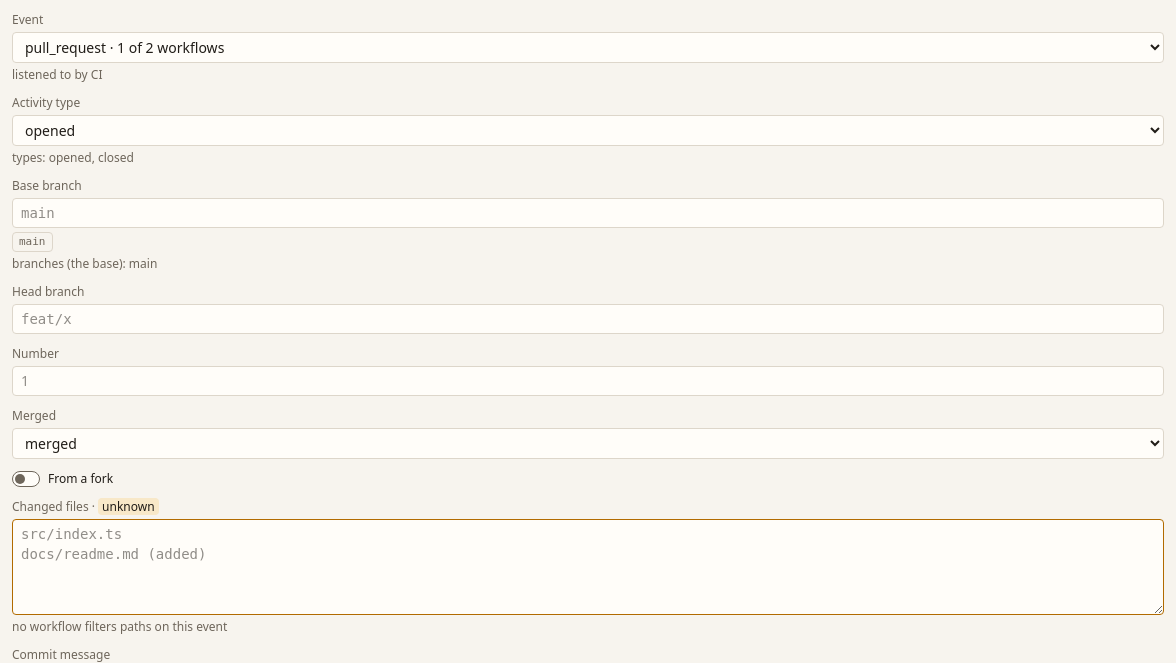
Scenario: the field groups › keeps Merged in place on an opened pull request while the author makes it unknown
The width and height of the screenshot is (1176, 663).
Select "unknown" in the dropdown labelled "Merged": (588, 443) top-left (12, 428), bottom-right (1164, 459)
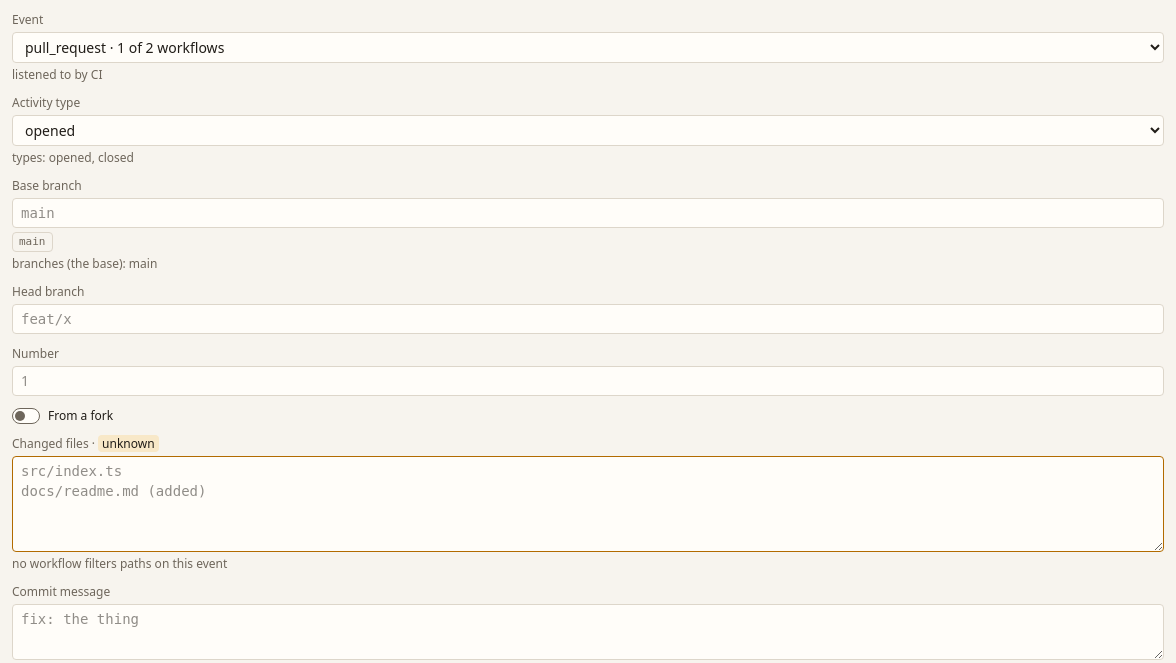
Now the label labelled "Merged" is gone
